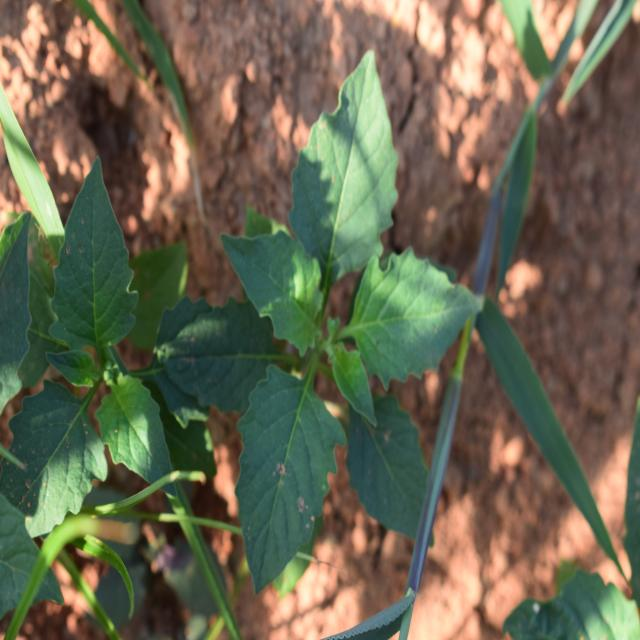Black_nightshade: (221, 70, 445, 548), (7, 156, 215, 479)
